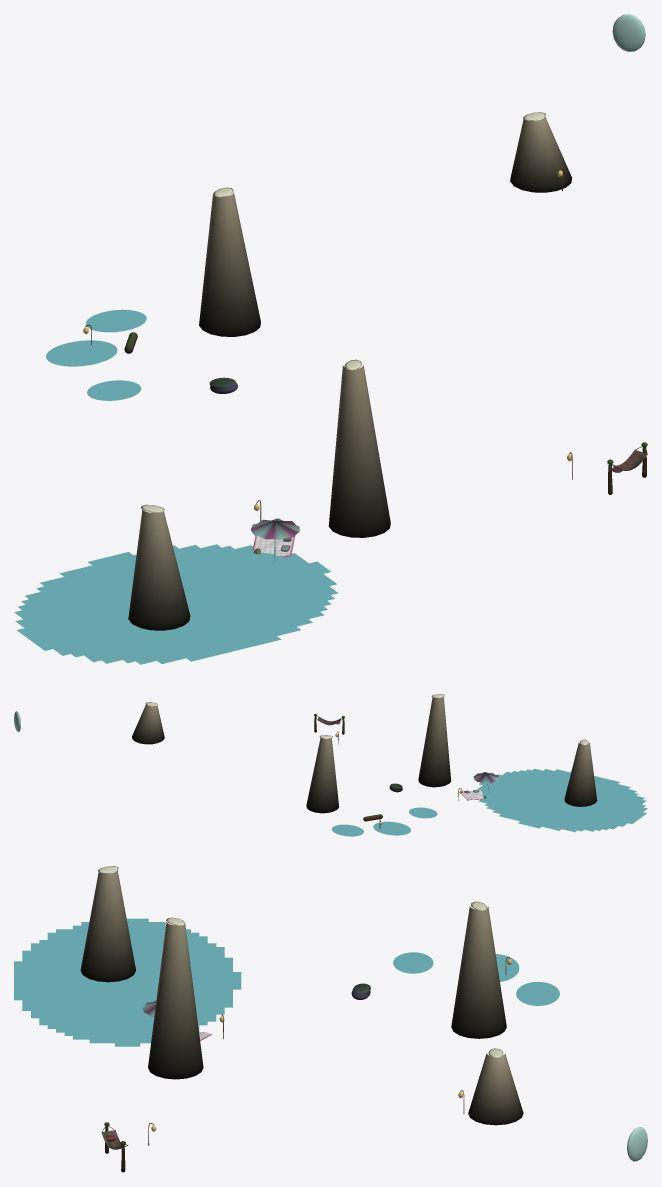
File: prp_cave_set.glb
The picture shows the model from 3 angles, top to bottom: view 1: azimuth 30°, elevation 25°; view 2: azimuth 150°, elevation 25°; view 3: azimuth 270°, elevation 25°; orthographic projection. The views are drawn at different scales.
Parts seen in each view (by area): view 1: INST_prp_cave_set_water_lagoon, INST_prp_cave_set_shafts, INST_prp_cave_set_setglow, INST_prp_cave_set_set, INST_prp_cave_set_water_pool_0, INST_prp_cave_set_water_pool_1; view 2: INST_prp_cave_set_water_lagoon, INST_prp_cave_set_shafts, INST_prp_cave_set_set, INST_prp_cave_set_water_pool_0, INST_prp_cave_set_setglow, INST_prp_cave_set_water_pool_1, INST_prp_cave_set_water_pool_2, INST_prp_cave_set_canopy; view 3: INST_prp_cave_set_shafts, INST_prp_cave_set_water_lagoon, INST_prp_cave_set_setglow, INST_prp_cave_set_set, INST_prp_cave_set_water_pool_1, INST_prp_cave_set_water_pool_2, INST_prp_cave_set_water_pool_0.
Boxes of the visible parts, x1=… form: INST_prp_cave_set_water_lagoon: x1=14, y1=544, x2=338, y2=664; INST_prp_cave_set_shafts: x1=128, y1=116, x2=571, y2=630; INST_prp_cave_set_setglow: x1=83, y1=14, x2=645, y2=512; INST_prp_cave_set_set: x1=85, y1=166, x2=647, y2=561; INST_prp_cave_set_water_pool_0: x1=46, y1=340, x2=117, y2=366; INST_prp_cave_set_water_pool_1: x1=85, y1=309, x2=146, y2=332; INST_prp_cave_set_water_lagoon: x1=477, y1=768, x2=647, y2=832; INST_prp_cave_set_shafts: x1=132, y1=696, x2=597, y2=813; INST_prp_cave_set_set: x1=314, y1=713, x2=489, y2=828; INST_prp_cave_set_water_pool_0: x1=373, y1=821, x2=410, y2=835; INST_prp_cave_set_setglow: x1=14, y1=694, x2=588, y2=824; INST_prp_cave_set_water_pool_1: x1=331, y1=824, x2=363, y2=836; INST_prp_cave_set_water_pool_2: x1=409, y1=807, x2=437, y2=818; INST_prp_cave_set_canopy: x1=473, y1=772, x2=498, y2=783; INST_prp_cave_set_shafts: x1=80, y1=870, x2=523, y2=1125; INST_prp_cave_set_water_lagoon: x1=14, y1=918, x2=241, y2=1046; INST_prp_cave_set_setglow: x1=98, y1=866, x2=647, y2=1161; INST_prp_cave_set_set: x1=101, y1=957, x2=509, y2=1172; INST_prp_cave_set_water_pool_1: x1=516, y1=981, x2=559, y2=1005; INST_prp_cave_set_water_pool_2: x1=393, y1=952, x2=433, y2=973; INST_prp_cave_set_water_pool_0: x1=495, y1=954, x2=519, y2=981.
Size of the model in its own units: 54.67 by 12.98 by 37.62.
